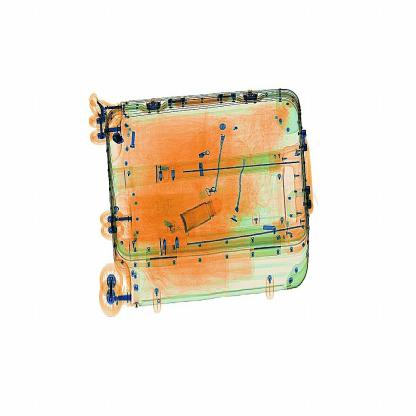knife: (109, 127, 133, 156)
